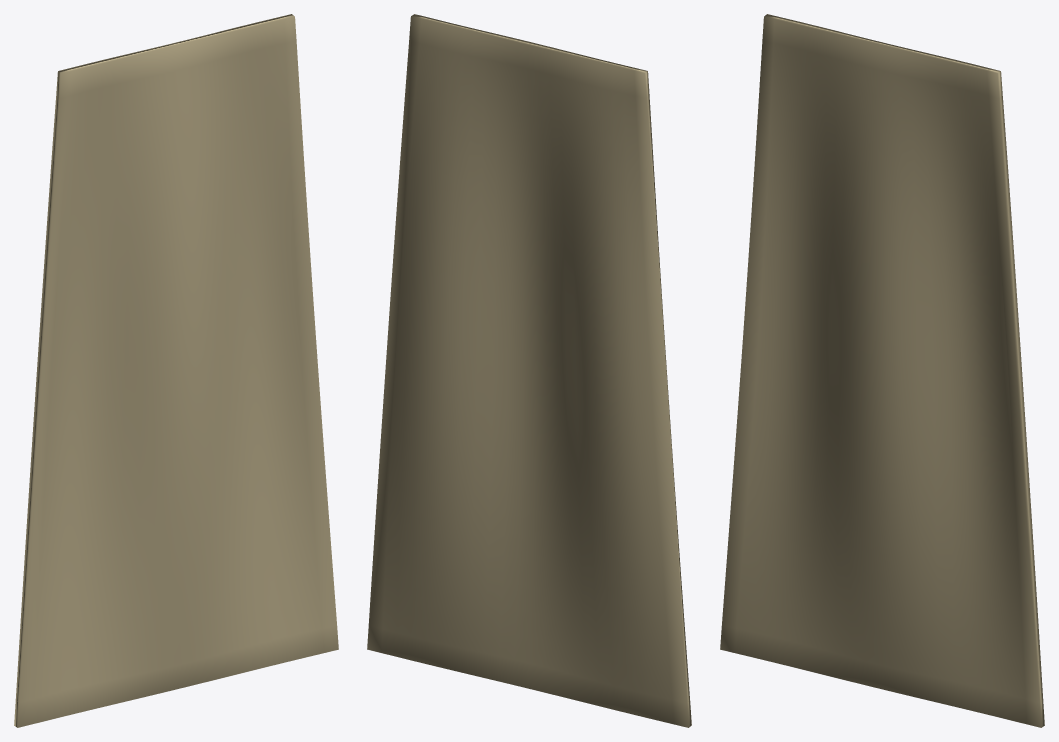
Rendered from arm_human_tabard_oathcloth_t1_m.glb.
3 views of the same model, side by side, from view 1: azimuth 30°, elevation 25°; view 2: azimuth 150°, elevation 25°; view 3: azimuth 330°, elevation 25° (orthographic).
Visible parts, largest first — view 1: armor_front_oath_tabard; view 2: armor_front_oath_tabard; view 3: armor_front_oath_tabard.
Boxes of the visible parts, x1,y1,x2,y2 form: armor_front_oath_tabard: (14,14,338,727); armor_front_oath_tabard: (367,14,691,727); armor_front_oath_tabard: (720,14,1044,727).
Bounding box in the file's own units: 0.3301 × 0.632 × 0.0339.
